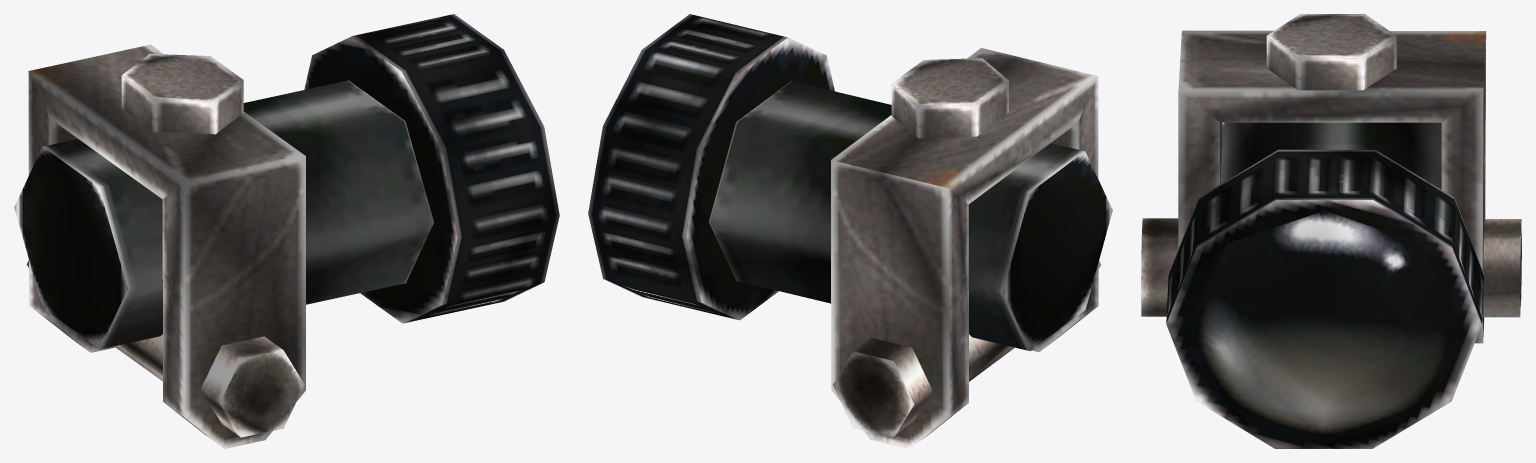
File: Robot01.Head4.fbx
The picture shows the model from 3 angles, left to right: view 1: azimuth 30°, elevation 25°; view 2: azimuth 150°, elevation 25°; view 3: azimuth 270°, elevation 25°; orthographic projection.
Parts seen in each view (by area): view 1: mesh_1080; view 2: mesh_1080; view 3: mesh_1080.
Boxes of the visible parts, box(x1,y1,x2,y2) form: mesh_1080: box(14, 14, 559, 448); mesh_1080: box(588, 14, 1112, 448); mesh_1080: box(1141, 14, 1521, 448).
Bounding box in the file's own units: 44.72 × 31.21 × 35.22.
